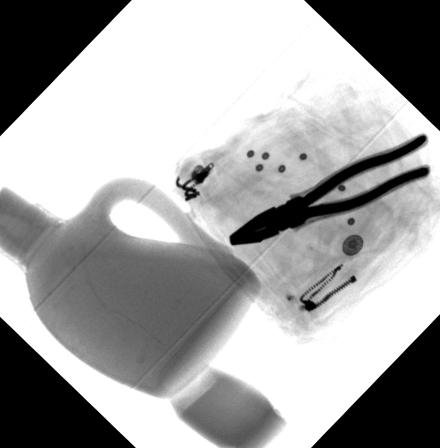Pliers: (227, 132, 432, 245)
